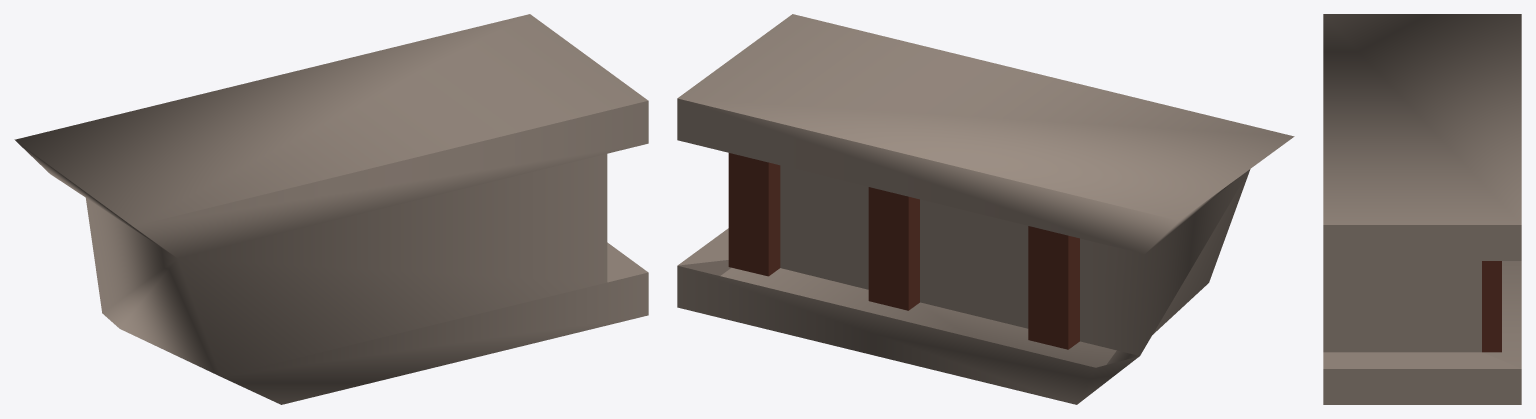
Rendered from Row_03_Broken_02.fbx.
3 renders of one model, left to right at view 1: azimuth 30°, elevation 25°; view 2: azimuth 150°, elevation 25°; view 3: azimuth 270°, elevation 25°, orthographic. The views are drawn at different scales.
Visible parts, largest first — view 1: Cube.016; view 2: Cube.016; view 3: Cube.016.
Boxes of the visible parts, x1=… form: Cube.016: x1=14, y1=14, x2=648, y2=404; Cube.016: x1=677, y1=14, x2=1294, y2=404; Cube.016: x1=1323, y1=14, x2=1521, y2=404.
Bounding box in the file's own units: 503 × 200 × 200.
